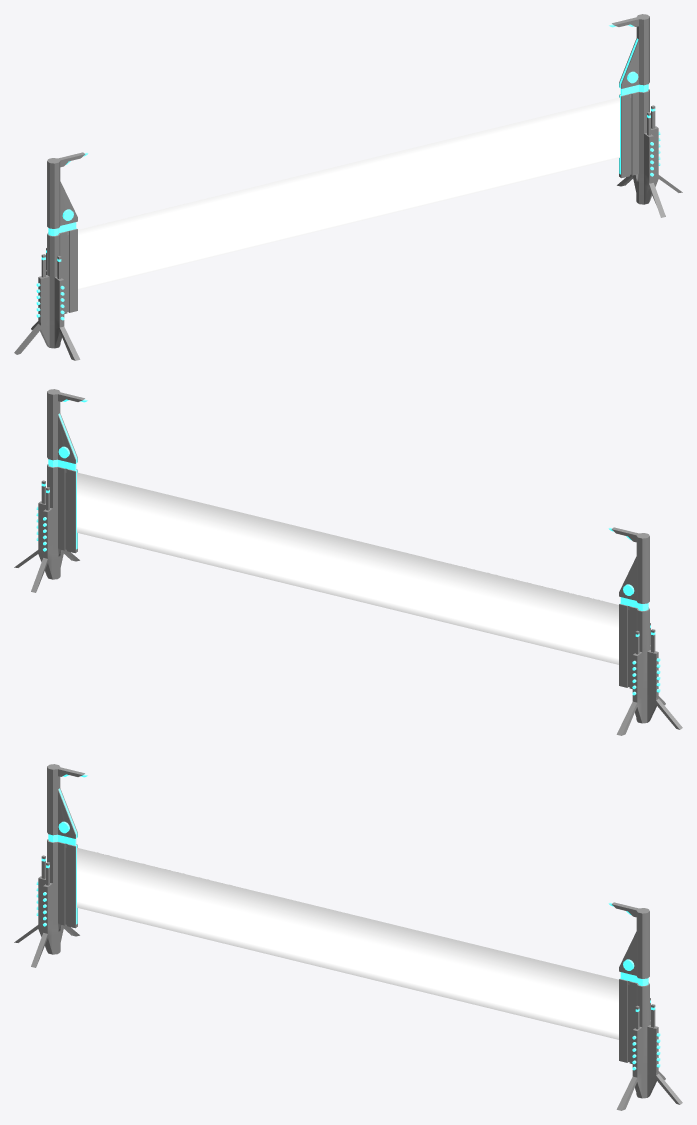
File: Wall.fbx
3 views of the same model, one above another, from view 1: azimuth 30°, elevation 25°; view 2: azimuth 150°, elevation 25°; view 3: azimuth 330°, elevation 25° (orthographic).
Parts seen in each view (by area): view 1: pPlane2, pCylinder1 (×2); view 2: pPlane2, pCylinder1 (×2); view 3: pPlane2, pCylinder1 (×2).
Part boxes in pixels (x1=…): pPlane2: x1=78, y1=97, x2=619, y2=289; pCylinder1 (×2): x1=14, y1=14, x2=682, y2=360; pPlane2: x1=77, y1=472, x2=618, y2=664; pCylinder1 (×2): x1=14, y1=389, x2=682, y2=735; pPlane2: x1=77, y1=847, x2=618, y2=1039; pCylinder1 (×2): x1=14, y1=764, x2=682, y2=1110.
Size of the model in its own units: 11.3 by 3 by 1.31.
